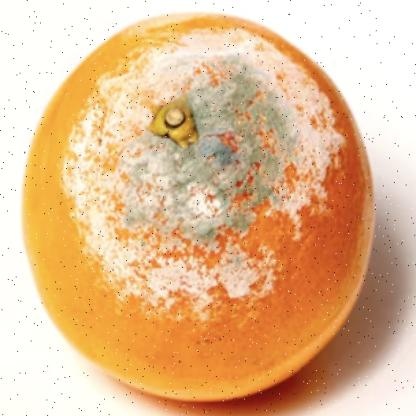rotten: (19, 14, 376, 406)
